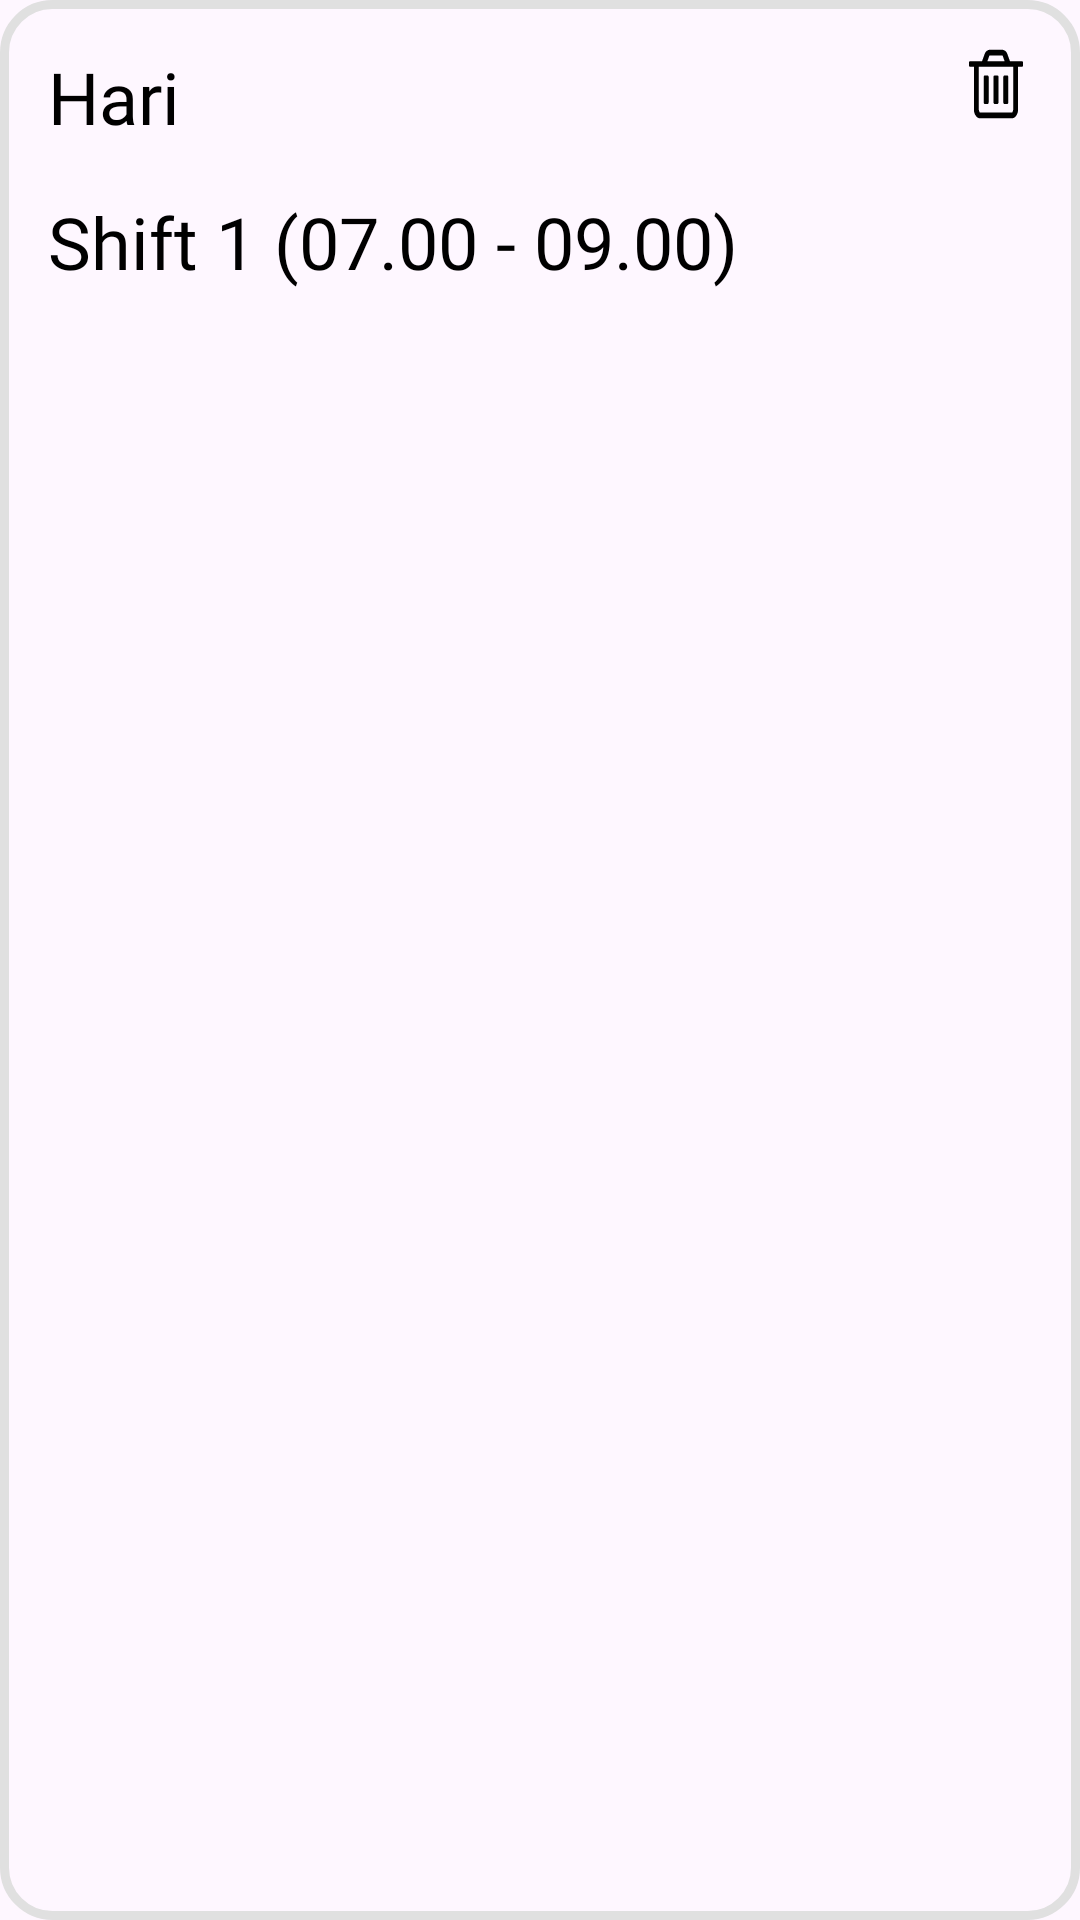

Icons on this 1080 x 1920 Android screen, each with its box as (x1, y1, x2, y2):
delete: (969, 49, 1023, 119)
